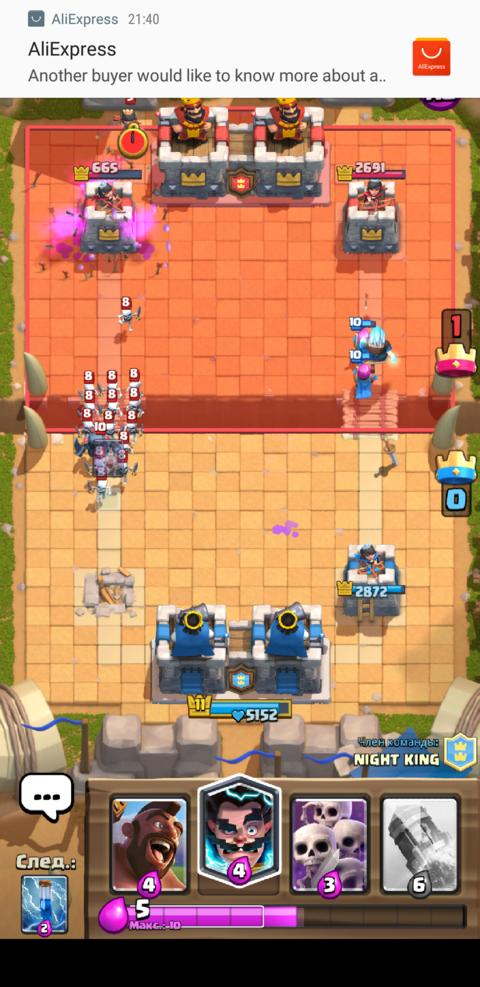ally_archer: (346, 348, 377, 400), (345, 314, 375, 348)
ally_ice_wizard: (358, 324, 397, 367)
enemy_mini_pekka: (69, 421, 117, 457)
enemy_princess: (111, 96, 141, 131)
enemy_skeleton: (109, 447, 140, 485), (85, 465, 111, 508), (115, 295, 142, 333), (118, 409, 145, 443), (95, 367, 123, 399), (82, 444, 110, 474), (123, 385, 146, 419), (73, 388, 99, 417), (76, 369, 99, 400), (123, 366, 145, 398), (100, 387, 123, 417), (72, 408, 94, 433), (114, 429, 135, 452), (100, 409, 115, 433)
